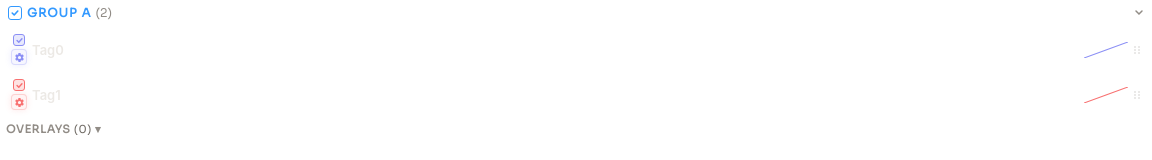
Test: GroupPanel › double-clicking the group label enters rename/edit mode
Double-click the element titled "Double-click to rename": (70, 12) left=27, top=5, right=112, bottom=20
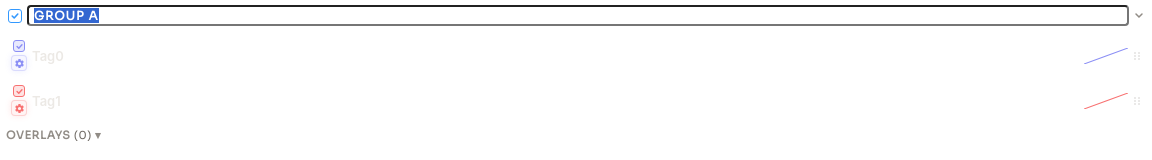
Expected: the field holds "Group A", left=27, top=5, right=1129, bottom=26
